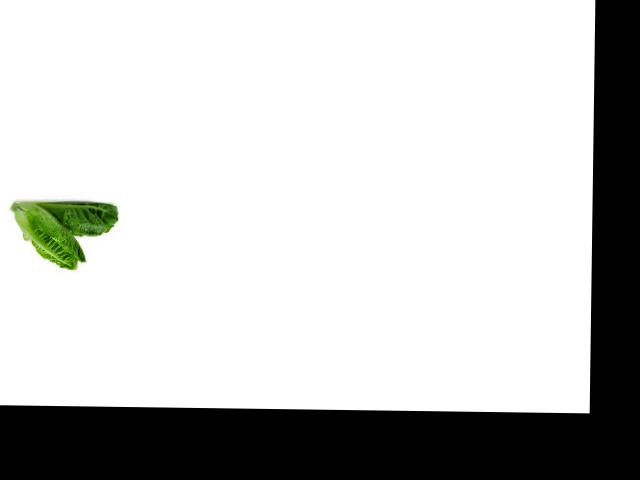lettuce: (33, 194, 125, 239)
